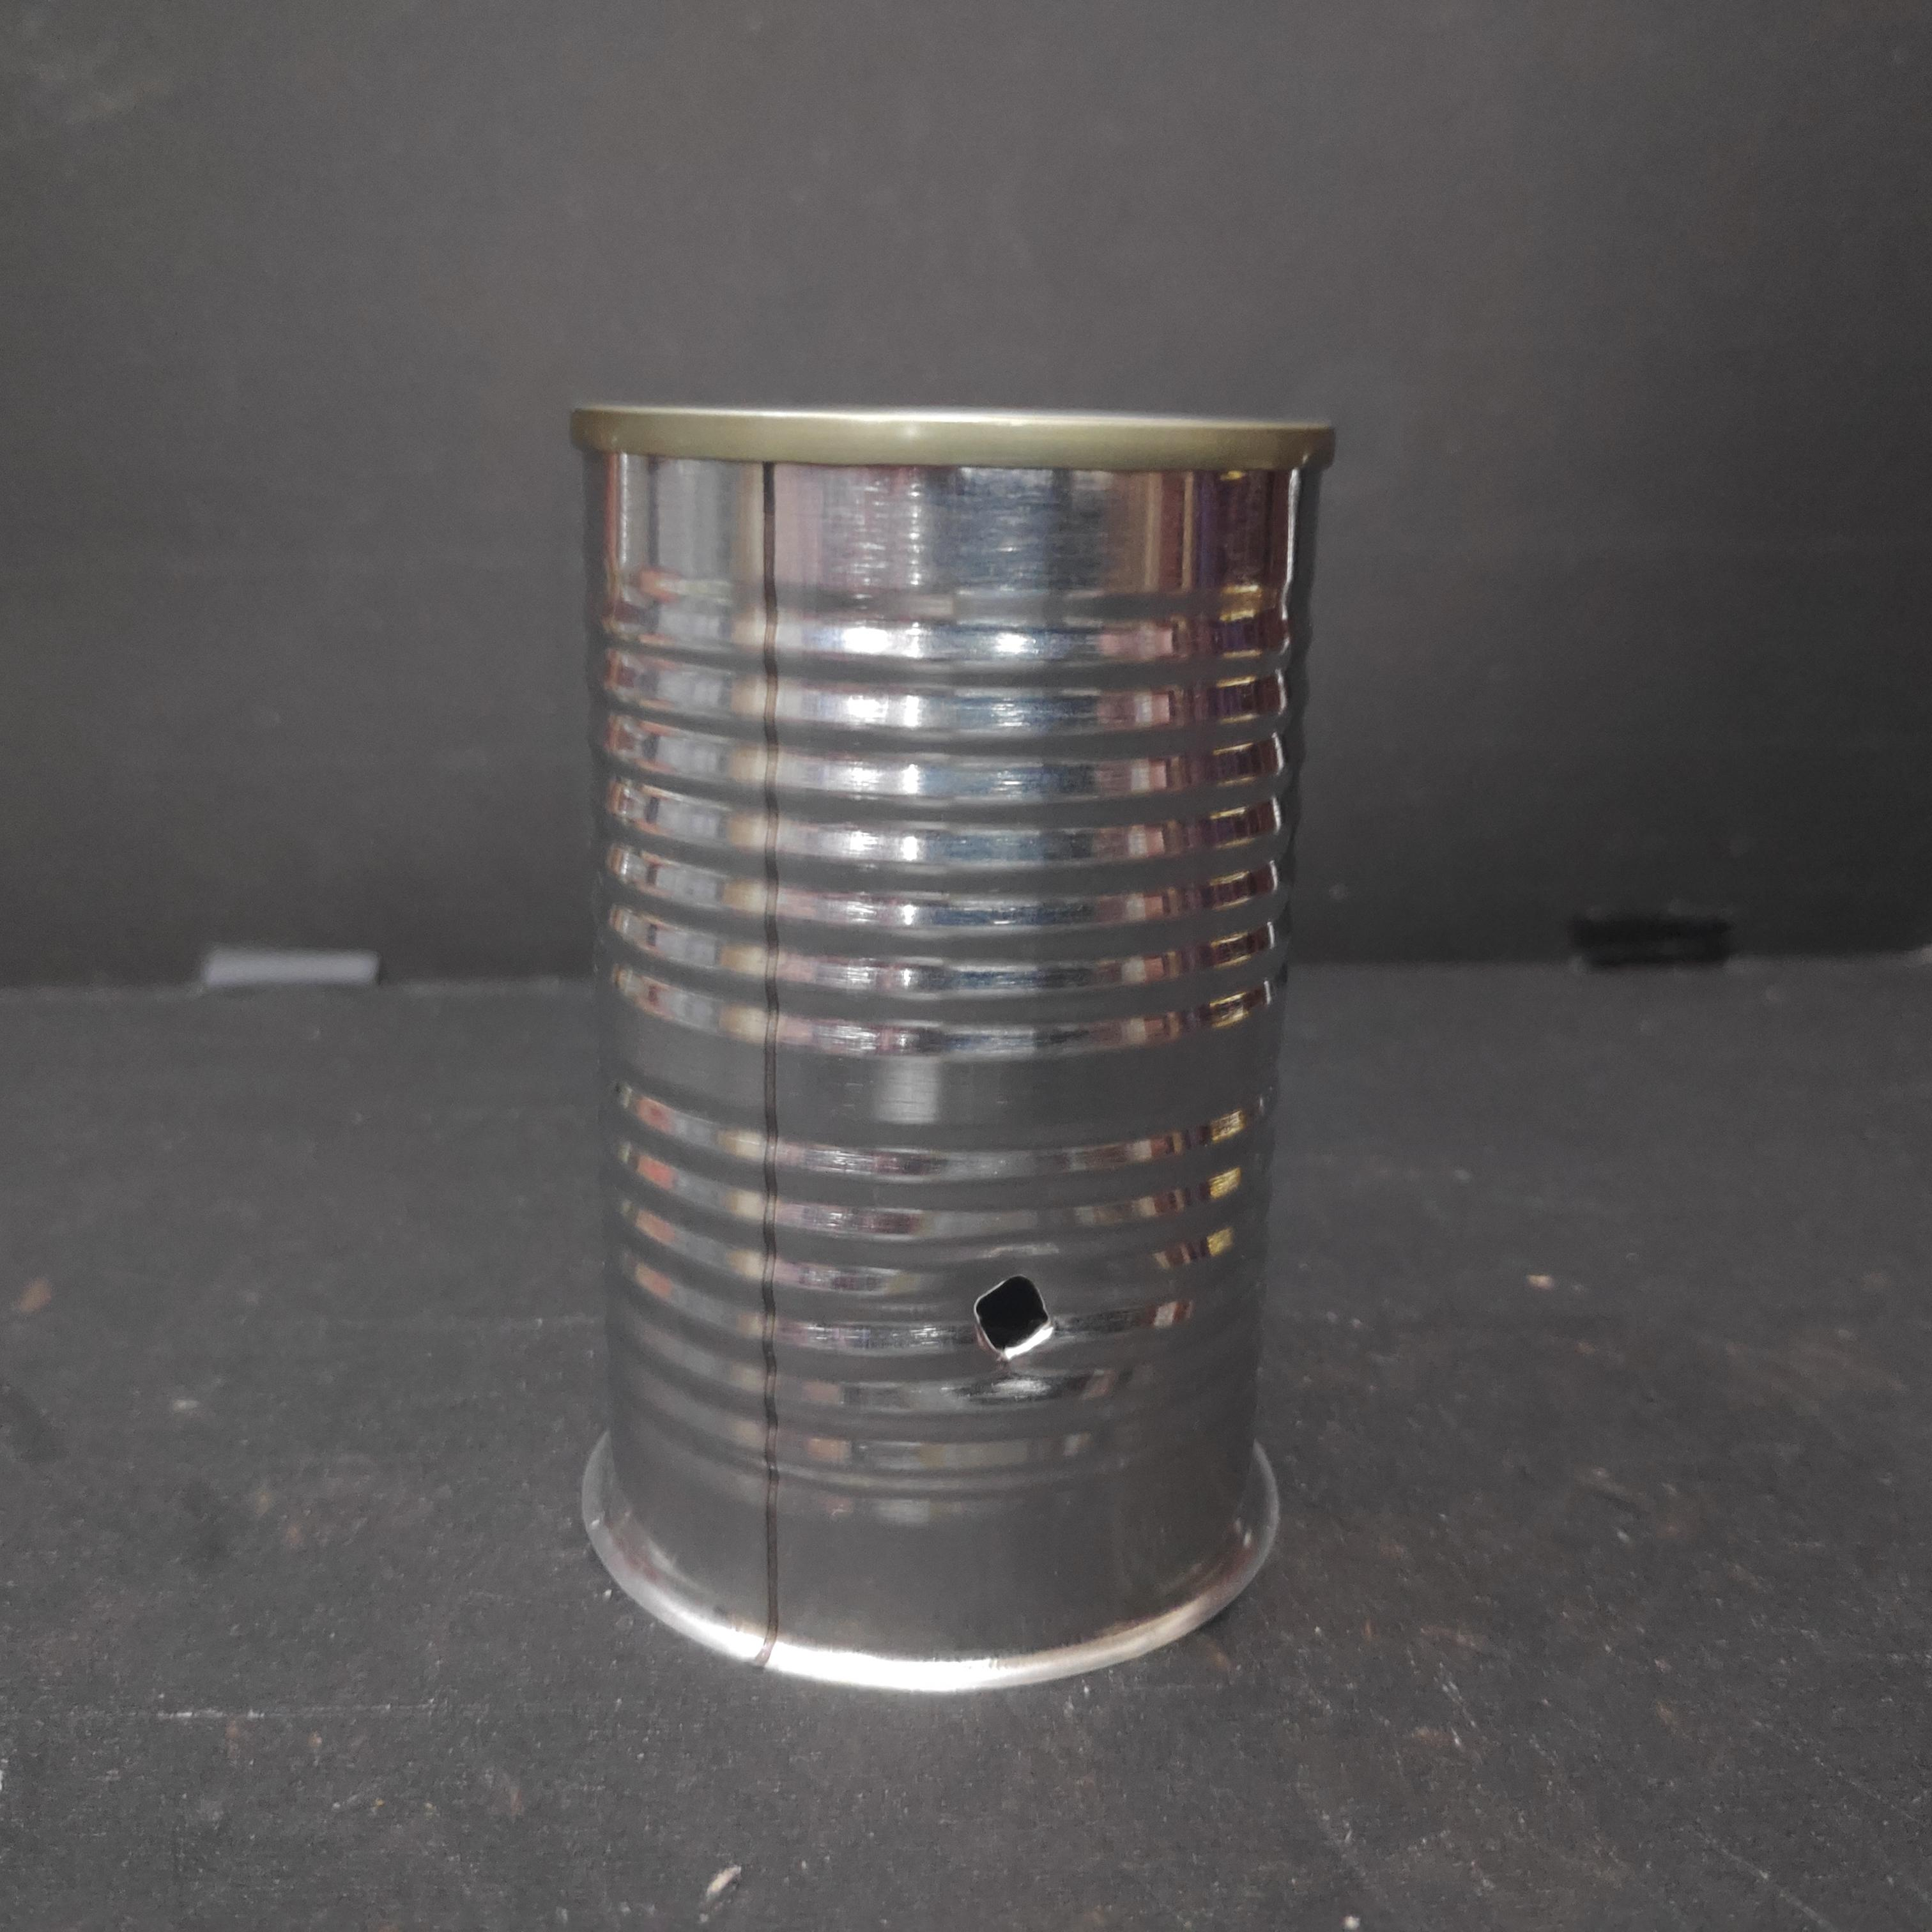Critical Defect: (570, 387, 1347, 1704)
